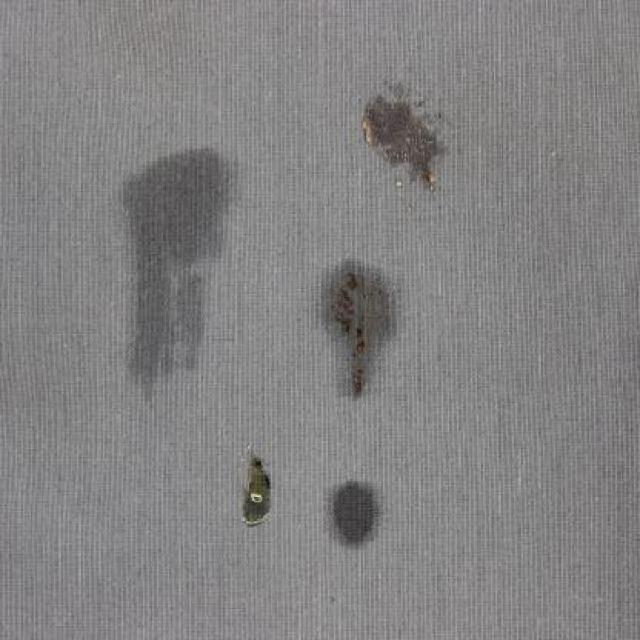Hole: (78, 116, 252, 412), (288, 234, 448, 424), (311, 68, 479, 210), (308, 450, 440, 582), (202, 435, 289, 558)
